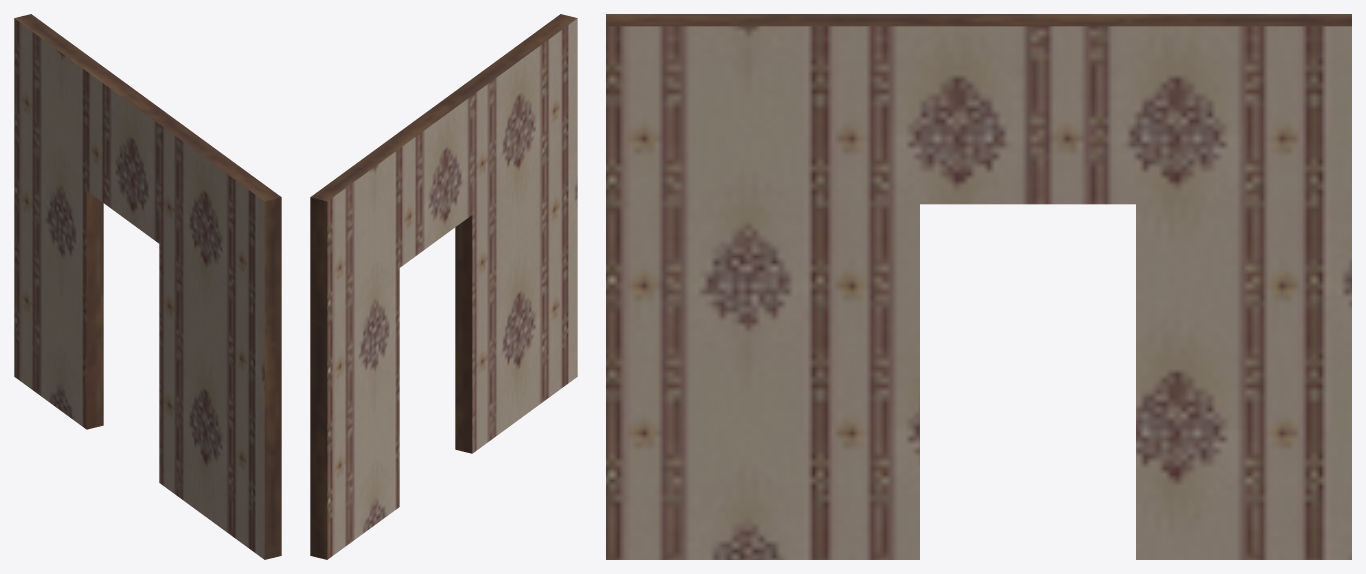
Rendered from wall2.dae.
The picture shows the model from 3 angles, left to right: view 1: azimuth 30°, elevation 25°; view 2: azimuth 150°, elevation 25°; view 3: azimuth 270°, elevation 25°; orthographic projection. The views are drawn at different scales.
Parts seen in each view (by area): view 1: Plane; view 2: Plane; view 3: Plane.
Boxes of the visible parts, box(x1,y1,x2,y2) form: Plane: box(14, 14, 281, 559); Plane: box(310, 14, 577, 559); Plane: box(606, 14, 1351, 559).
Bounding box in the file's own units: 0.15 × 3.8 × 3.
1 material, 1 textured.
